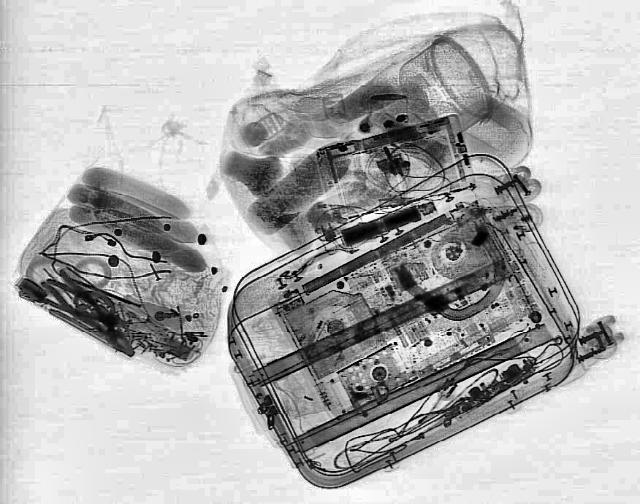Pliers: (37, 268, 145, 364), (28, 275, 136, 337)
